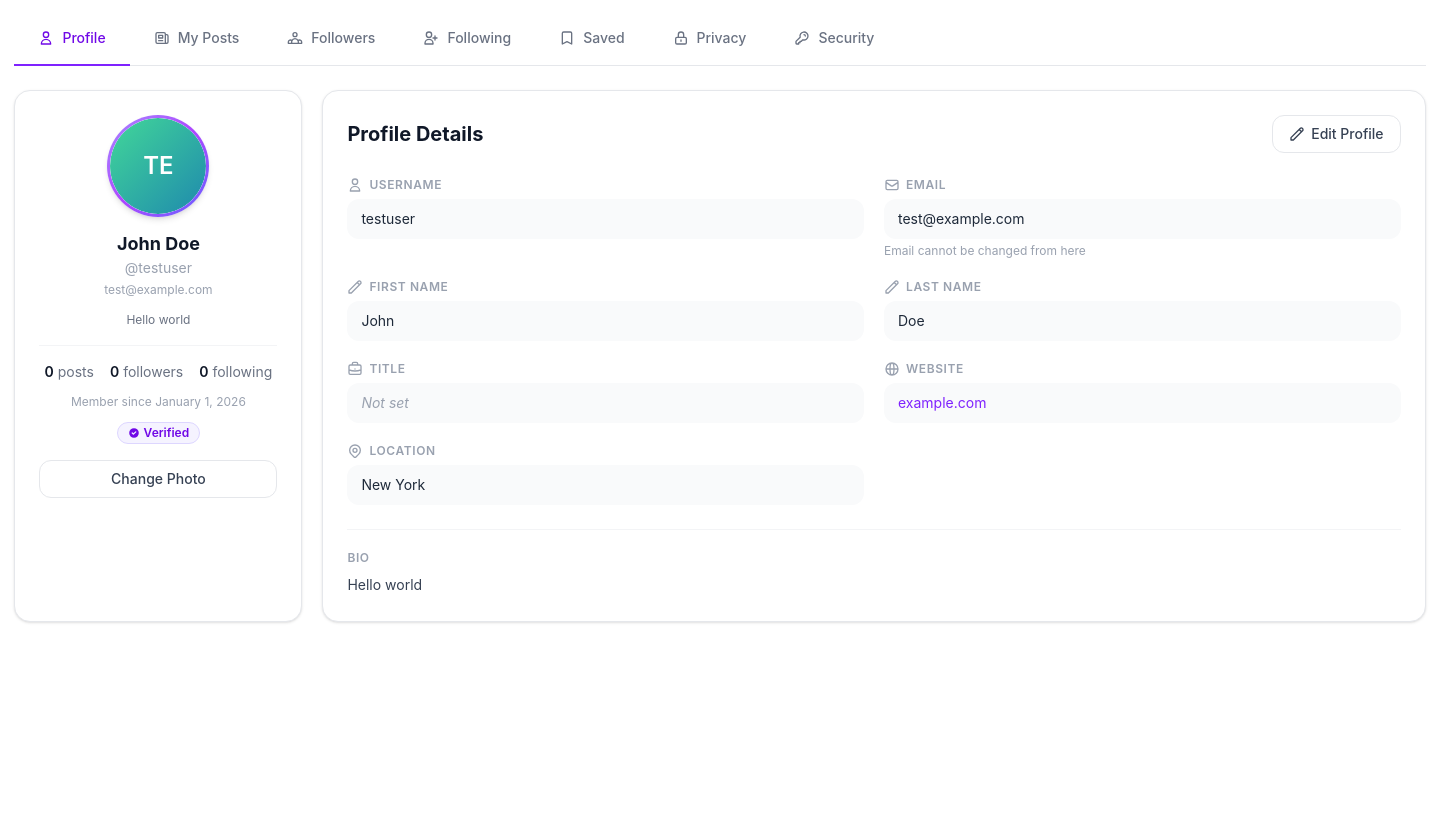
ProfilePage — own profile (/profile) › clicking Edit Profile shows the edit form
Click the button "Edit Profile": (1336, 134) [1272, 115, 1401, 153]
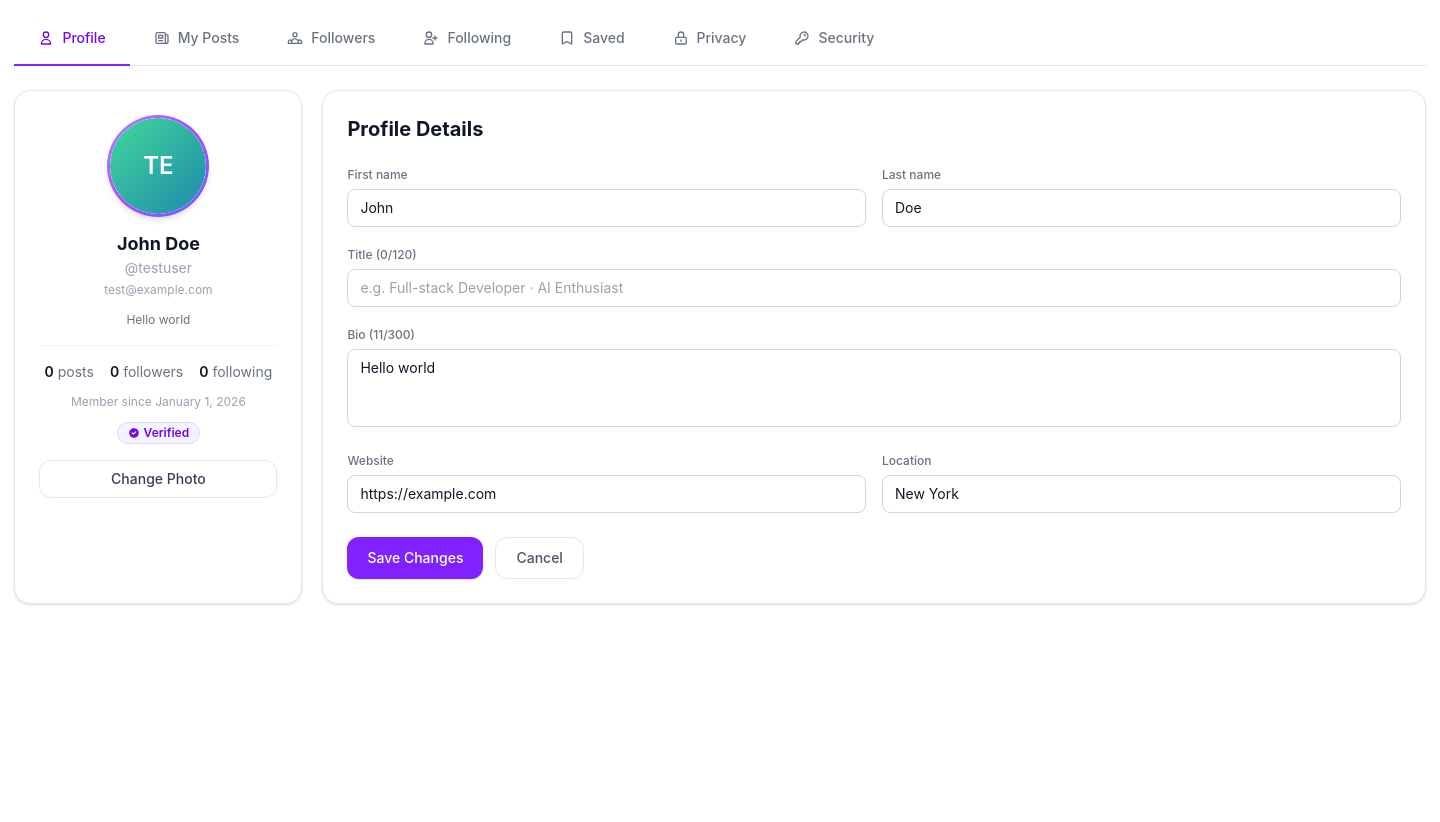
Check: the field with placeholder "First name" below "First name" is shown, box [347, 189, 866, 227]
Check: the field with placeholder "Last name" below "Last name" is shown, box [882, 189, 1401, 227]
Check: the text box with placeholder "Tell people about yourself…" is shown, box [347, 349, 1401, 427]
